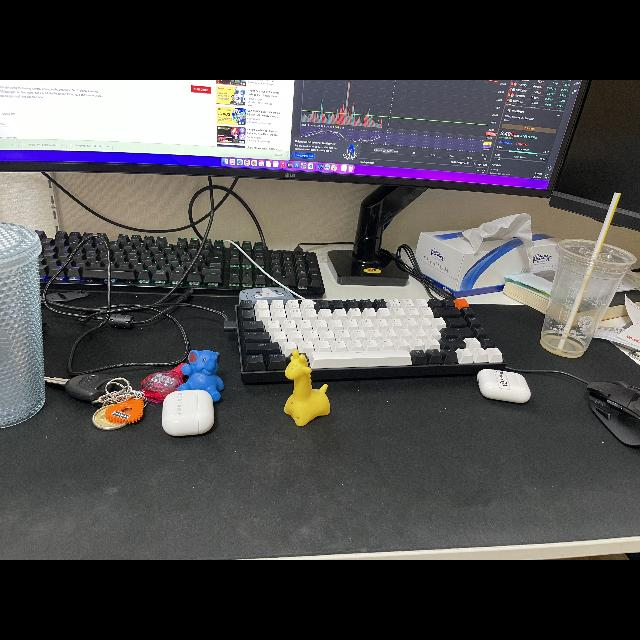airpod2: (472, 363, 538, 407)
airpod3: (160, 387, 220, 438)
